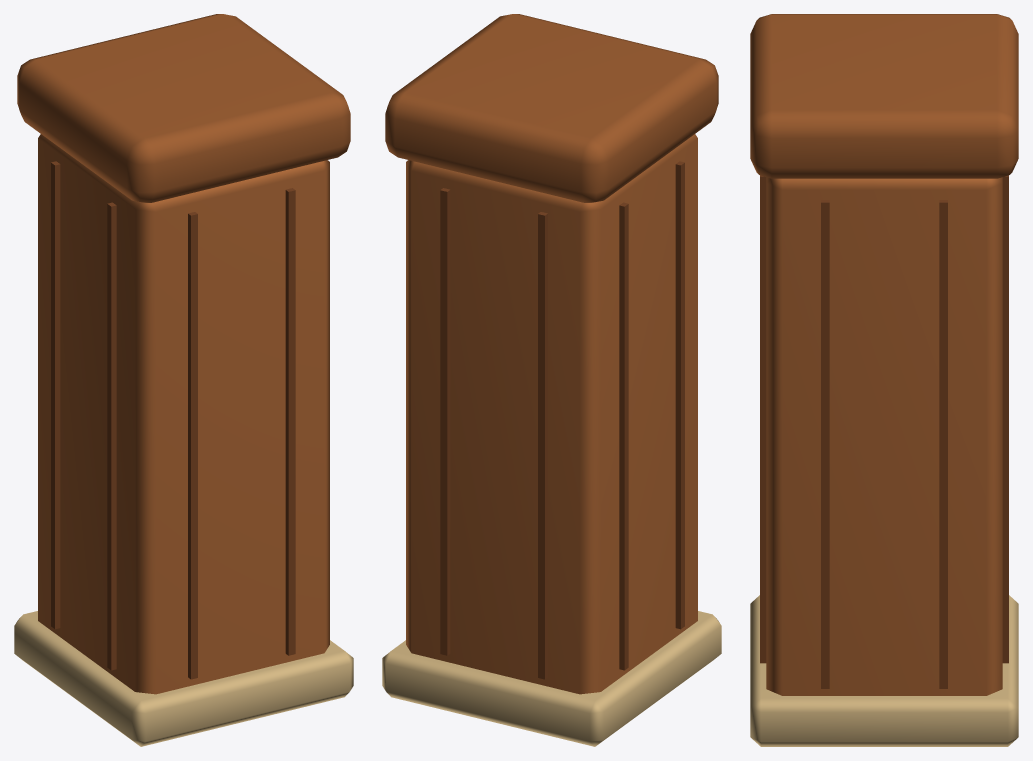
Rendered from tropic-post.glb.
3 renders of one model, left to right at view 1: azimuth 30°, elevation 25°; view 2: azimuth 150°, elevation 25°; view 3: azimuth 270°, elevation 25°, orthographic. The views are drawn at different scales.
Parts seen in each view (by area): view 1: tropic-post; view 2: tropic-post; view 3: tropic-post.
Boxes of the visible parts, x1,y1,x2,y2 form: tropic-post: (14, 14, 353, 746); tropic-post: (382, 14, 721, 746); tropic-post: (750, 14, 1018, 746).
Bounding box in the file's own units: 0.5 × 1.3 × 0.5.
